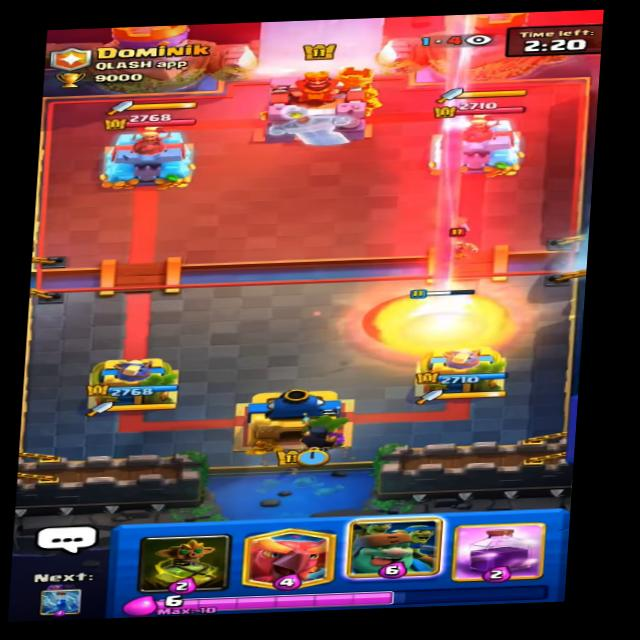Void: (362, 282, 513, 355)
Wizard: (427, 223, 480, 268)
